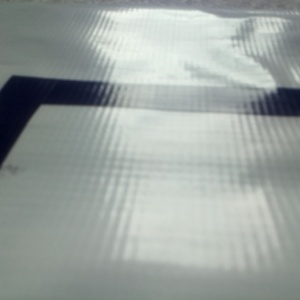bottom_left: (110, 72, 239, 132), (191, 80, 300, 147)
top_left: (200, 44, 300, 99), (137, 39, 239, 87)
